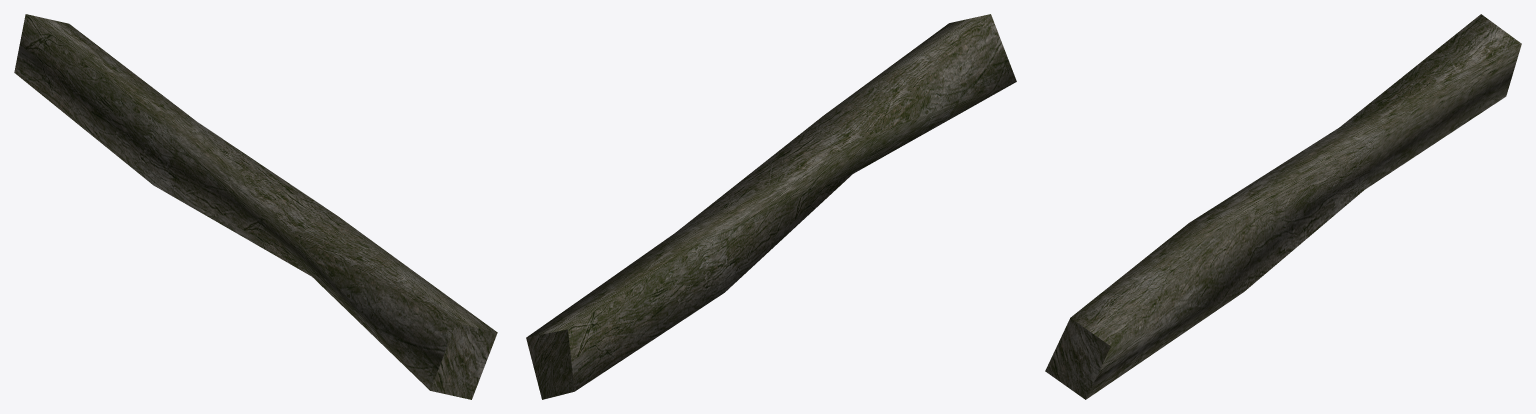
Rendered from TI_S_Branch_02.fbx.
The picture shows the model from 3 angles, left to right: view 1: azimuth 30°, elevation 25°; view 2: azimuth 150°, elevation 25°; view 3: azimuth 330°, elevation 25°; orthographic projection. The views are drawn at different scales.
Visible parts, largest first — view 1: TI_S_Branch_02; view 2: TI_S_Branch_02; view 3: TI_S_Branch_02.
Boxes of the visible parts, x1,y1,x2,y2 form: TI_S_Branch_02: [14, 14, 497, 399]; TI_S_Branch_02: [526, 14, 1016, 399]; TI_S_Branch_02: [1045, 14, 1521, 399].
Bounding box in the file's own units: 0.1949 × 0.2219 × 2.14.
